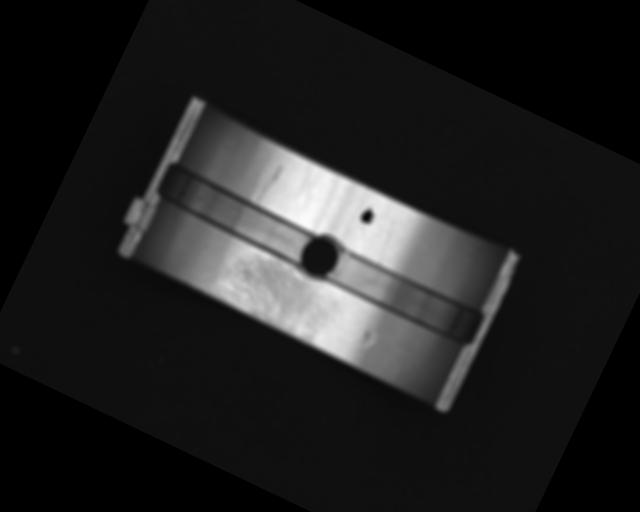blot: (357, 201, 380, 227)
bruise: (358, 329, 378, 351)
gap: (151, 161, 314, 266), (324, 244, 486, 348)
hole: (292, 225, 348, 286)
nick: (248, 157, 286, 207), (373, 221, 399, 264)
scratch: (208, 239, 349, 349)
